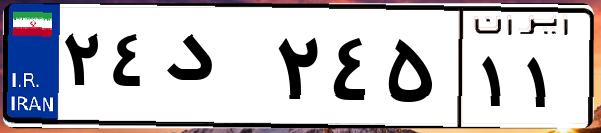1: (475, 38, 525, 113), (525, 38, 570, 115)
2: (270, 28, 330, 110), (57, 26, 110, 100)
4: (330, 28, 385, 110), (110, 28, 158, 98)
5: (385, 28, 445, 110)
د: (158, 20, 270, 120)
